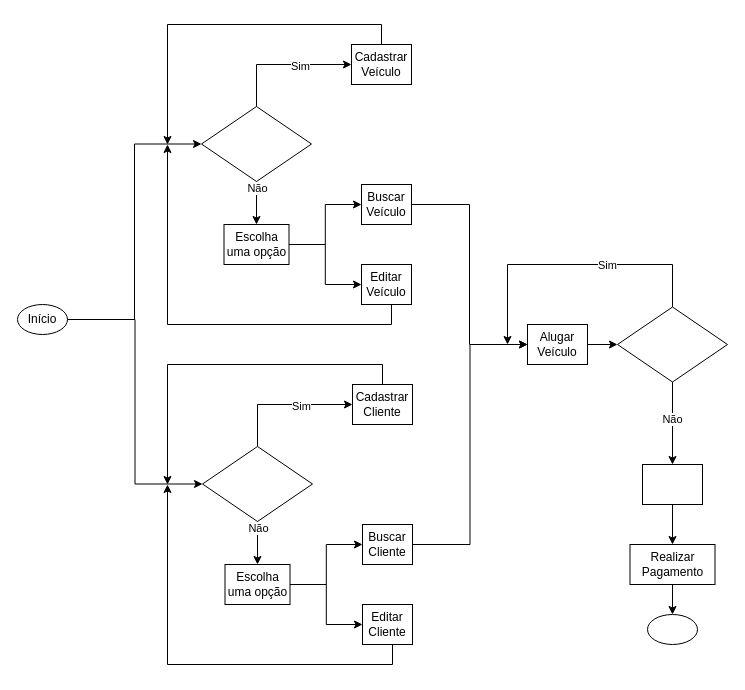
Some shapes in this 745 by 690 pixel diagram are drawn without their labels. Each missing label, with the centre of its shape:
Devolver Veículo: pixel 672 484
Fim: pixel 672 629
Mais Alugueis?: pixel 672 344
Novo Cliente?: pixel 257 484
Novo Veículo?: pixel 256 144
